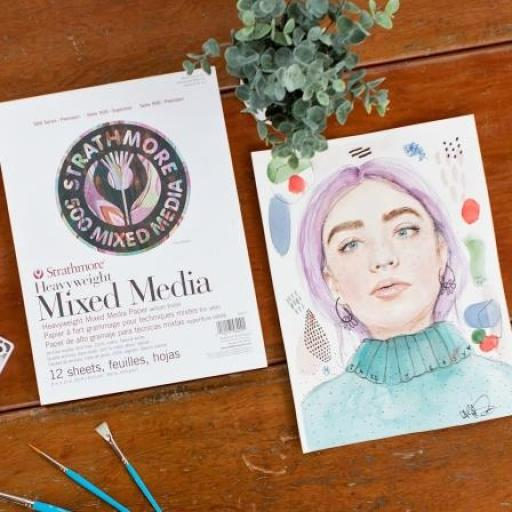paper: (0, 42, 270, 423), (236, 107, 512, 475)
